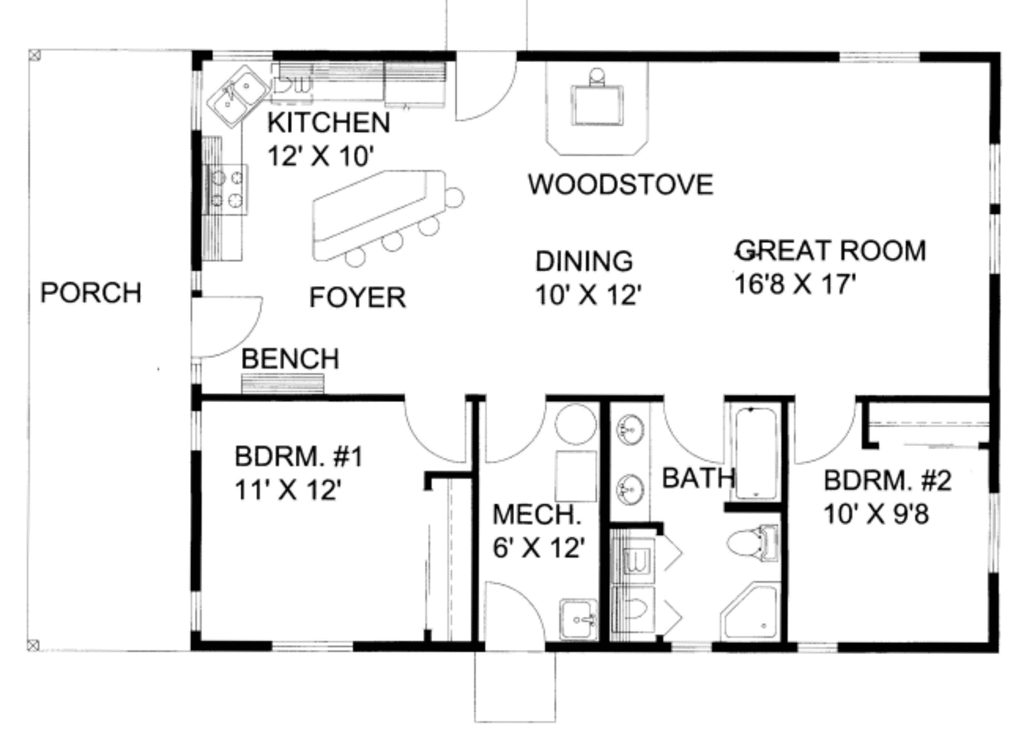door: (400, 396, 472, 466), (455, 52, 522, 125), (184, 296, 261, 358), (481, 578, 549, 647), (662, 396, 727, 462), (483, 397, 546, 462), (793, 400, 855, 463)
kitchen_bar: (198, 144, 252, 262)
large_sink: (716, 524, 783, 561)
small_sink: (610, 470, 655, 522), (556, 590, 599, 643), (613, 407, 649, 464)
twin_sink: (204, 68, 289, 139)
window: (985, 145, 1002, 276), (840, 49, 918, 65), (990, 497, 1003, 574), (273, 643, 358, 651)
